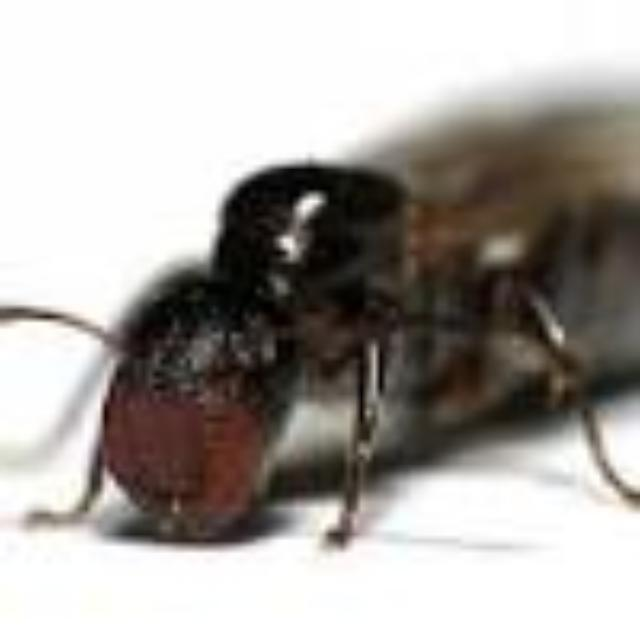Colobopsis: (18, 56, 640, 554)
